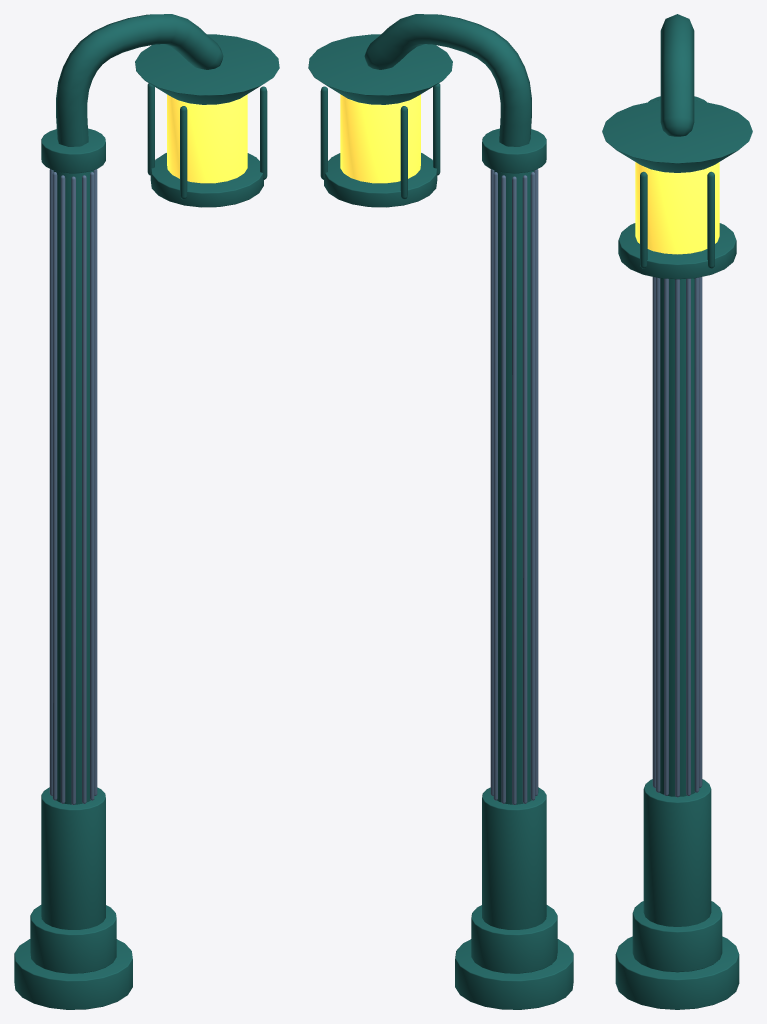
The model's file is street_lamp.glb.
3 renders of one model, left to right at view 1: azimuth 30°, elevation 25°; view 2: azimuth 150°, elevation 25°; view 3: azimuth 270°, elevation 25°, orthographic. The views are drawn at different scales.
Parts seen in each view (by area): view 1: Cast_iron.003, Cast_iron.002, Swan_neck, Lantern_roof, Warm_lantern, Cast_iron, Cast_iron.001, Fluted_rib.005, Fluted_rib.006, Lantern_bottom, Fluted_rib.002, Fluted_rib.003 (+7 smaller); view 2: Cast_iron.003, Cast_iron.002, Swan_neck, Lantern_roof, Warm_lantern, Cast_iron, Cast_iron.001, Fluted_rib.007, Fluted_rib.006, Lantern_bottom, Fluted_rib.008, Fluted_rib.009 (+7 smaller); view 3: Cast_iron.003, Cast_iron.002, Lantern_roof, Warm_lantern, Cast_iron, Cast_iron.001, Swan_neck, Lantern_bottom, Fluted_rib.002, Fluted_rib.010, Fluted_rib, Fluted_rib.001 (+5 smaller).
Part boxes in pixels (x1=…): Cast_iron.003: x1=53, y1=170, x2=93, y2=804; Cast_iron.002: x1=41, y1=787, x2=105, y2=929; Swan_neck: x1=56, y1=14, x2=223, y2=146; Lantern_roof: x1=135, y1=34, x2=279, y2=104; Warm_lantern: x1=167, y1=94, x2=247, y2=183; Cast_iron: x1=14, y1=939, x2=132, y2=1009; Cast_iron.001: x1=30, y1=905, x2=116, y2=973; Fluted_rib.005: x1=60, y1=175, x2=65, y2=803; Fluted_rib.006: x1=52, y1=172, x2=57, y2=800; Lantern_bottom: x1=150, y1=153, x2=263, y2=207; Fluted_rib.002: x1=90, y1=172, x2=94, y2=800; Fluted_rib.003: x1=82, y1=175, x2=86, y2=803; Cast_iron.003: x1=494, y1=170, x2=534, y2=804; Cast_iron.002: x1=482, y1=787, x2=546, y2=929; Swan_neck: x1=364, y1=14, x2=531, y2=146; Lantern_roof: x1=308, y1=34, x2=452, y2=104; Warm_lantern: x1=340, y1=94, x2=420, y2=183; Cast_iron: x1=455, y1=939, x2=573, y2=1009; Cast_iron.001: x1=471, y1=905, x2=557, y2=973; Fluted_rib.007: x1=522, y1=175, x2=527, y2=803; Fluted_rib.006: x1=530, y1=172, x2=535, y2=800; Lantern_bottom: x1=324, y1=153, x2=437, y2=207; Fluted_rib.008: x1=512, y1=176, x2=516, y2=804; Fluted_rib.009: x1=501, y1=175, x2=505, y2=803; Cast_iron.003: x1=659, y1=278, x2=695, y2=796; Cast_iron.002: x1=643, y1=779, x2=711, y2=926; Lantern_roof: x1=602, y1=100, x2=752, y2=172; Warm_lantern: x1=635, y1=162, x2=719, y2=254; Cast_iron: x1=615, y1=936, x2=739, y2=1009; Cast_iron.001: x1=632, y1=901, x2=722, y2=972; Swan_neck: x1=660, y1=14, x2=694, y2=136; Lantern_bottom: x1=618, y1=223, x2=736, y2=279; Fluted_rib.002: x1=655, y1=277, x2=660, y2=792; Fluted_rib.010: x1=694, y1=277, x2=699, y2=792; Fluted_rib: x1=675, y1=279, x2=679, y2=797; Fluted_rib.001: x1=664, y1=278, x2=668, y2=795.
Bounding box in the file's own units: 1.06 × 3.88 × 0.5368.
